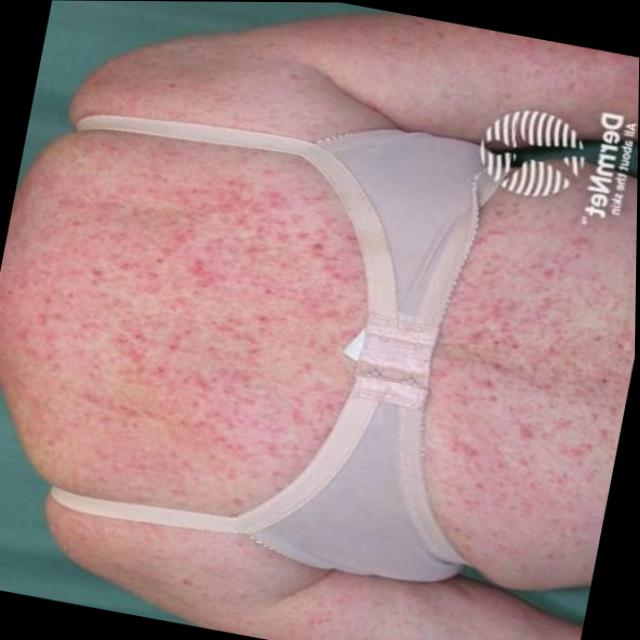Eczema: (10, 112, 357, 483), (439, 243, 619, 486)
